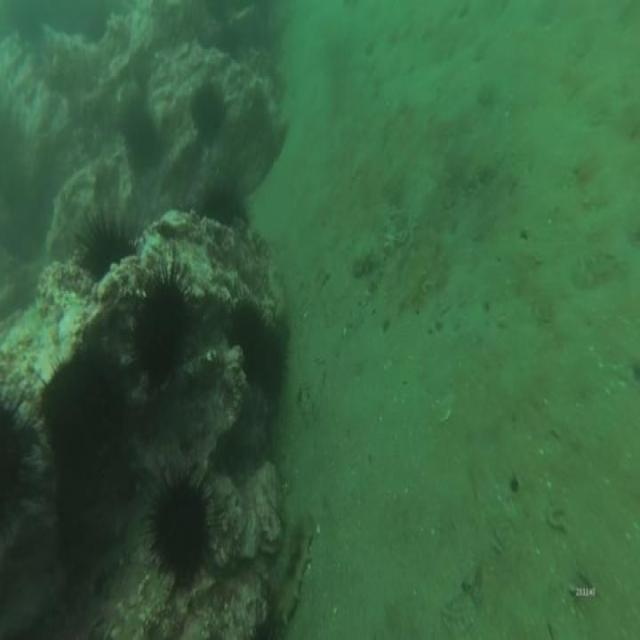echinus: (26, 343, 124, 469), (143, 448, 222, 604), (134, 250, 201, 379), (73, 205, 143, 280), (224, 280, 268, 376), (122, 96, 159, 176), (188, 74, 230, 139)
holothurian: (270, 506, 316, 632)
